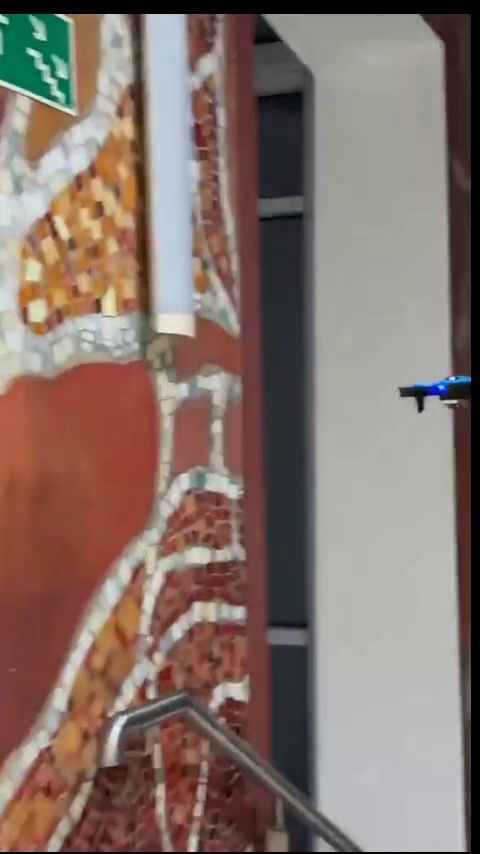drone: (400, 376, 480, 411)
